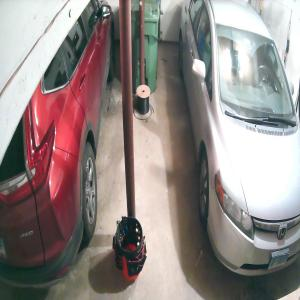garbage bin: (130, 0, 161, 95)
honda civic: (178, 0, 300, 281)
honda crv: (0, 0, 116, 292)
tool bucket: (113, 215, 147, 280)
